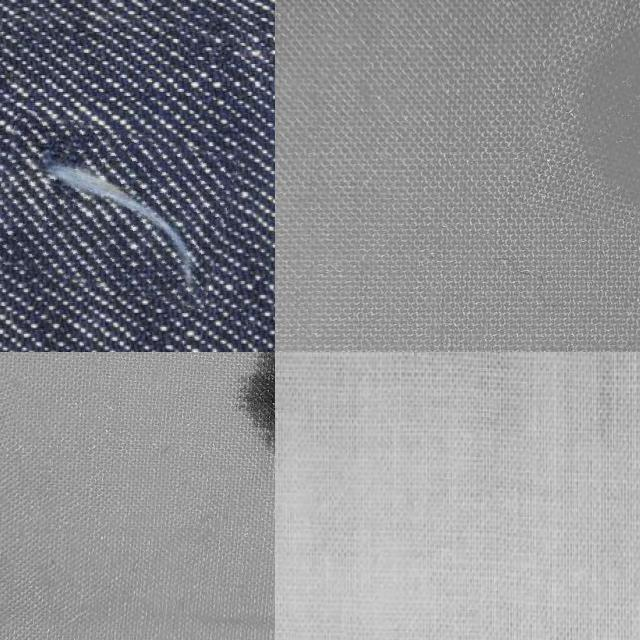Thread_other: (532, 0, 640, 245), (204, 352, 275, 471)
stains: (0, 119, 230, 298)
